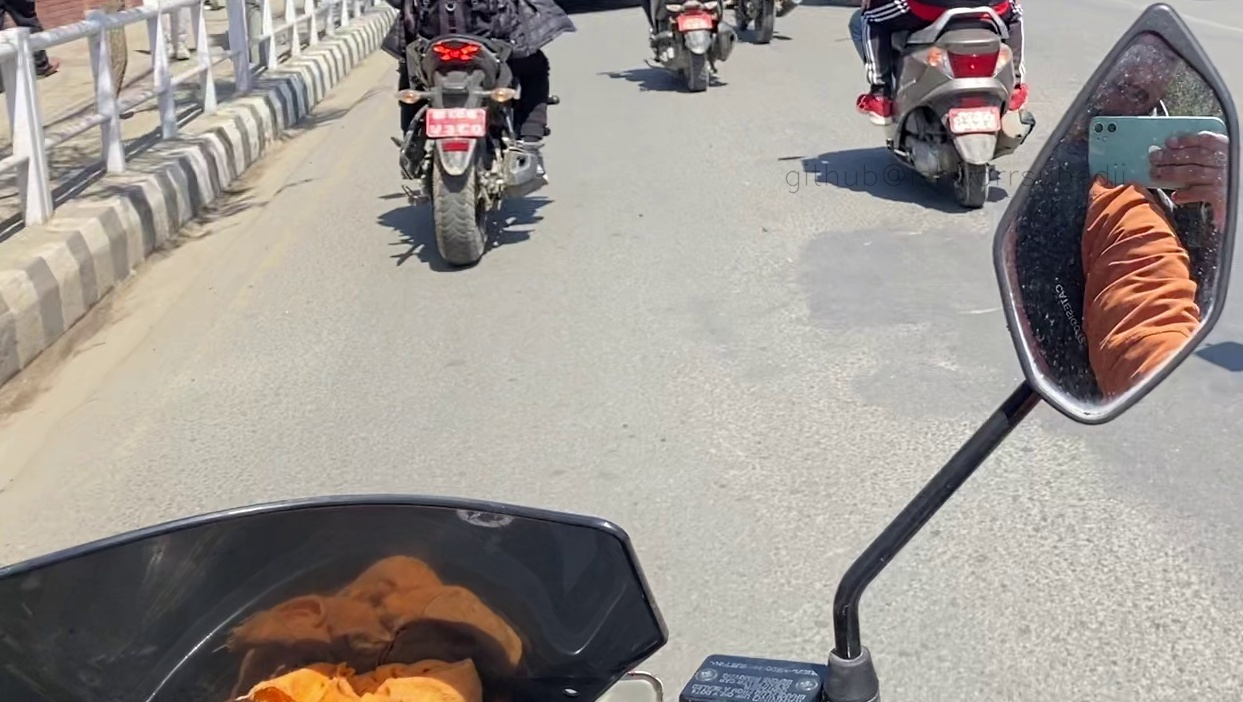license_plate: (424, 107, 486, 138), (948, 106, 1001, 133), (675, 9, 715, 30)
